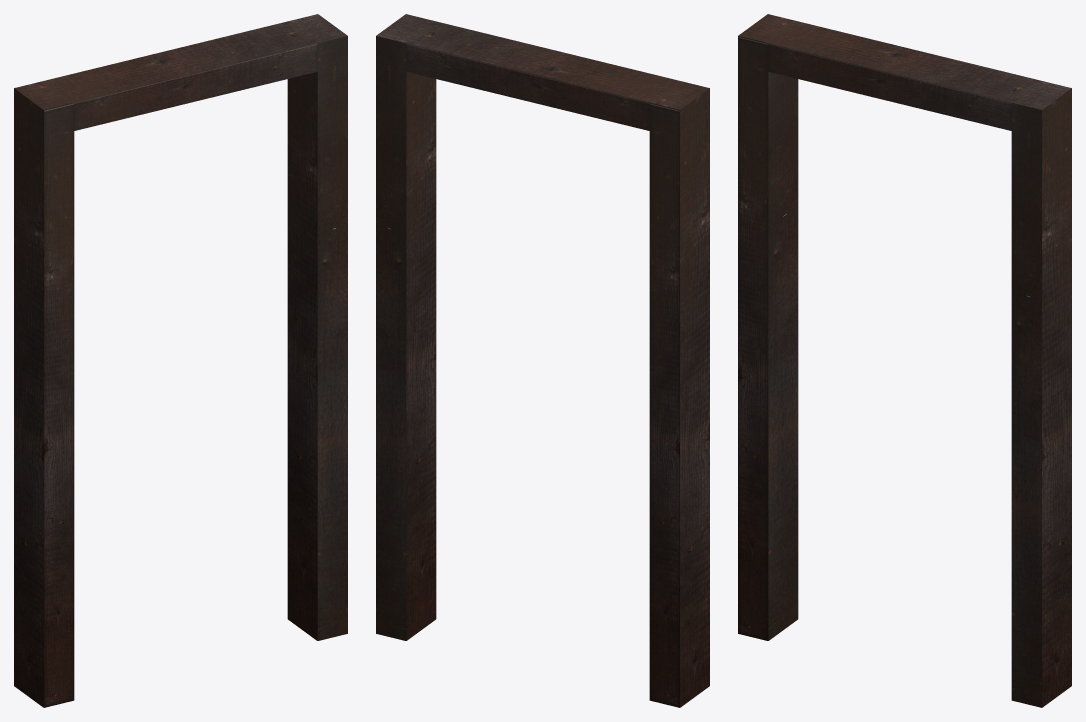
The model's file is OldWoodenDoorFrame_01.fbx.
3 renders of one model, left to right at view 1: azimuth 30°, elevation 25°; view 2: azimuth 150°, elevation 25°; view 3: azimuth 330°, elevation 25°, orthographic.
Parts seen in each view (by area): view 1: DoorFrame.003; view 2: DoorFrame.003; view 3: DoorFrame.003.
Part boxes in pixels (bbox=[...]): DoorFrame.003: bbox=[14, 14, 347, 707]; DoorFrame.003: bbox=[376, 14, 709, 707]; DoorFrame.003: bbox=[738, 14, 1071, 707].
Bounding box in the file's own units: 122 × 229 × 20.78.
